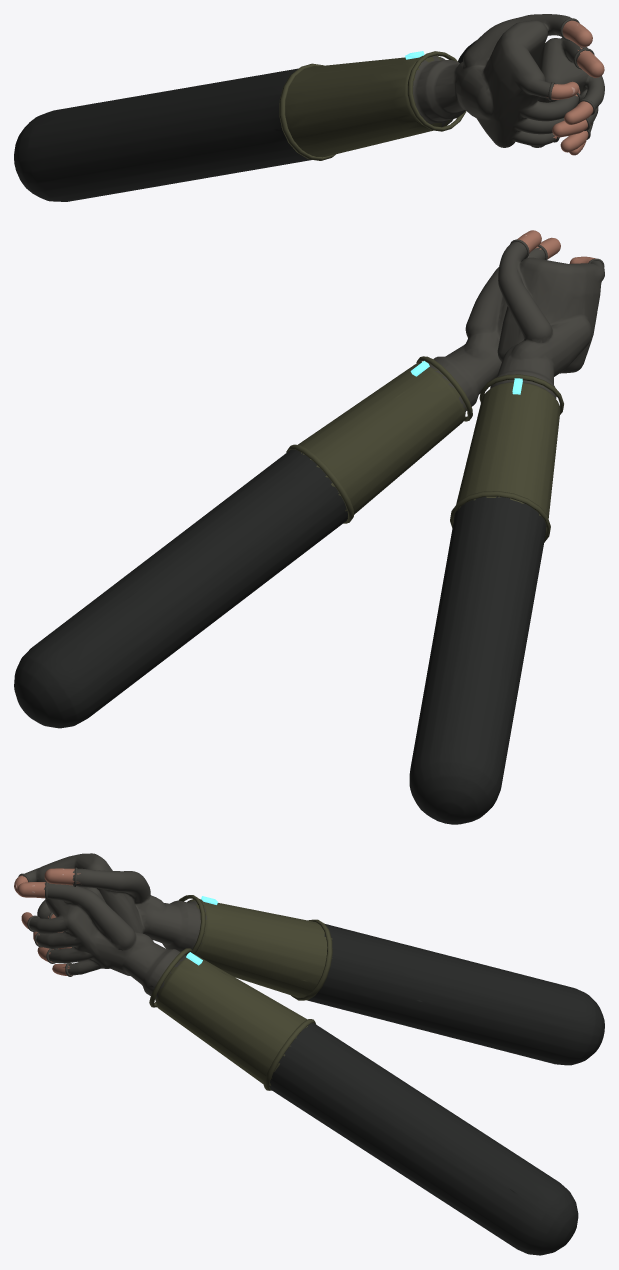
Rendered from PlayerFPHands_v2.glb.
3 views of the same model, one above another, from view 1: azimuth 30°, elevation 25°; view 2: azimuth 150°, elevation 25°; view 3: azimuth 270°, elevation 25° (orthographic). The views are drawn at different scales.
Parts seen in each view (by area): view 1: PlayerFPHands_v2; view 2: PlayerFPHands_v2; view 3: PlayerFPHands_v2.
Boxes of the visible parts, bbox=[...] form: PlayerFPHands_v2: bbox=[14, 14, 604, 201]; PlayerFPHands_v2: bbox=[14, 230, 604, 824]; PlayerFPHands_v2: bbox=[14, 853, 604, 1255].
Bounding box in the file's own units: 0.5702 × 0.3769 × 0.6759.
